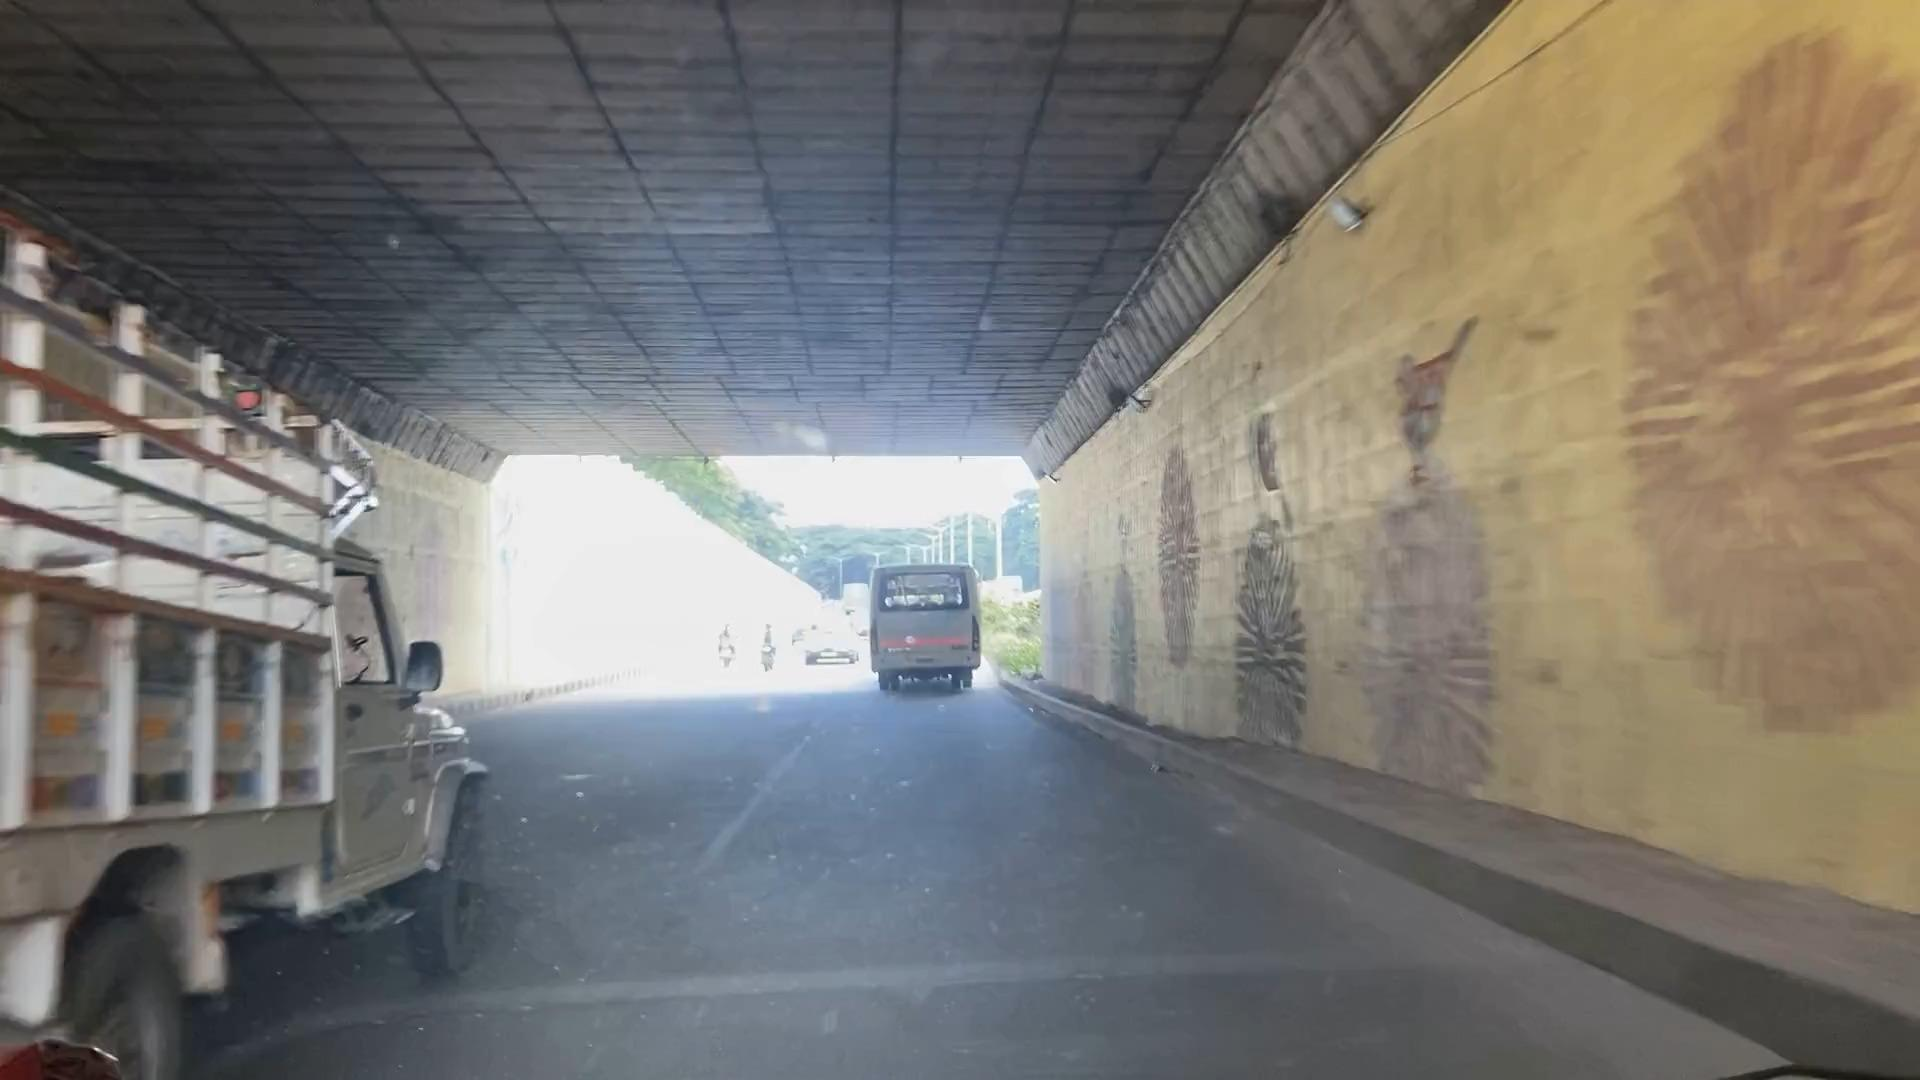HMV: (0, 238, 470, 1070), (871, 571, 983, 701)
RoadDamages: (706, 712, 800, 876)
